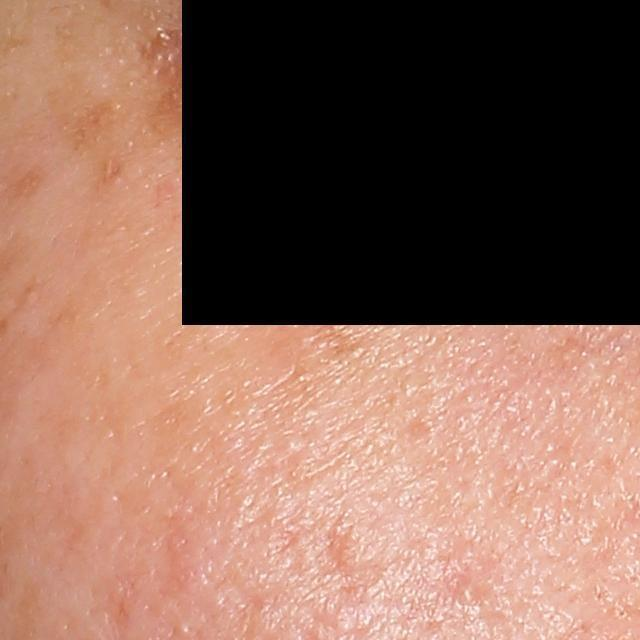melasma: (9, 165, 46, 206)
